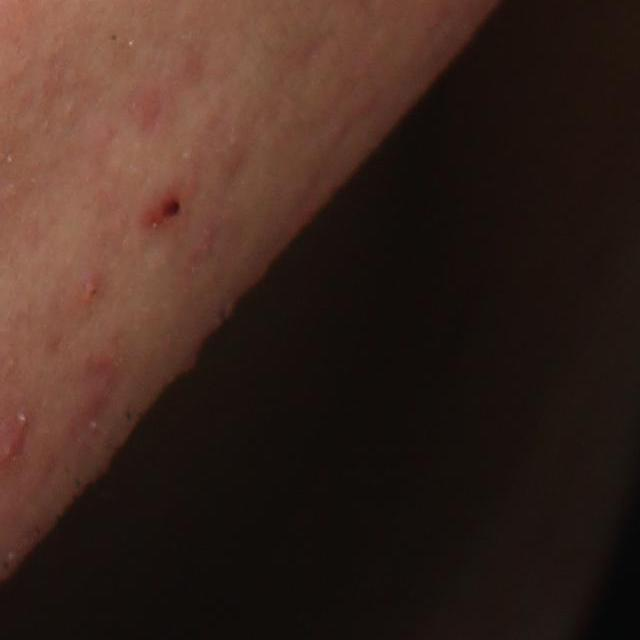papule: (141, 189, 187, 225), (77, 269, 106, 303)
